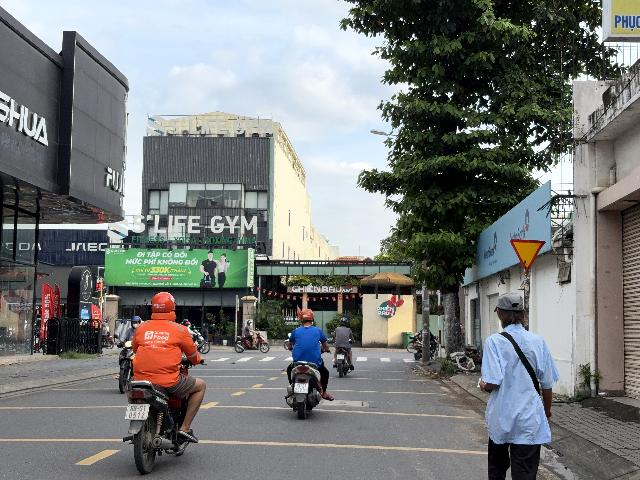giao-nhau-voi-duong-uu-tien: (509, 239, 547, 272)
